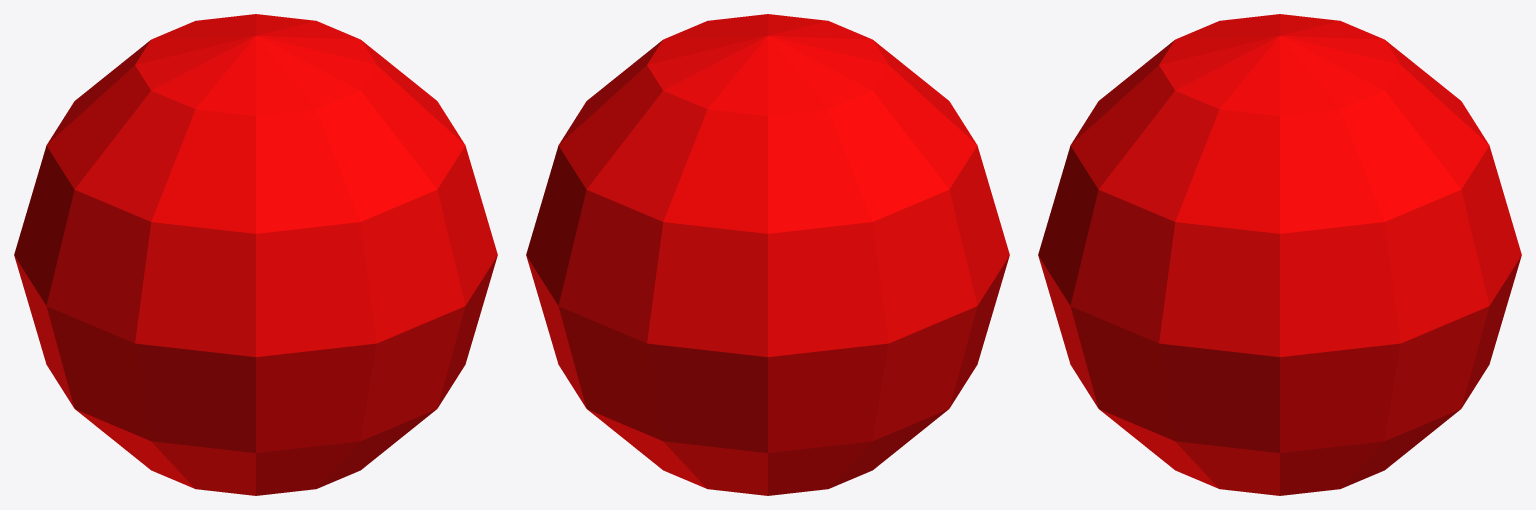
File: test_obj_block.obj
The picture shows the model from 3 angles, left to right: view 1: azimuth 30°, elevation 25°; view 2: azimuth 150°, elevation 25°; view 3: azimuth 270°, elevation 25°; orthographic projection.
Parts seen in each view (by area): view 1: sphere; view 2: sphere; view 3: sphere.
Boxes of the visible parts, box(x1,y1,x2,y2) form: sphere: box(14, 14, 497, 495); sphere: box(526, 14, 1009, 495); sphere: box(1038, 14, 1521, 495).
Bounding box in the file's own units: 1 × 1 × 1.
